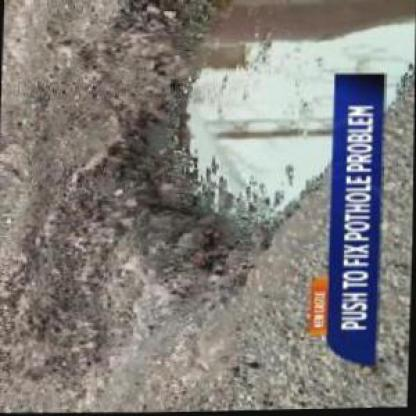pothole: (74, 0, 414, 315)
